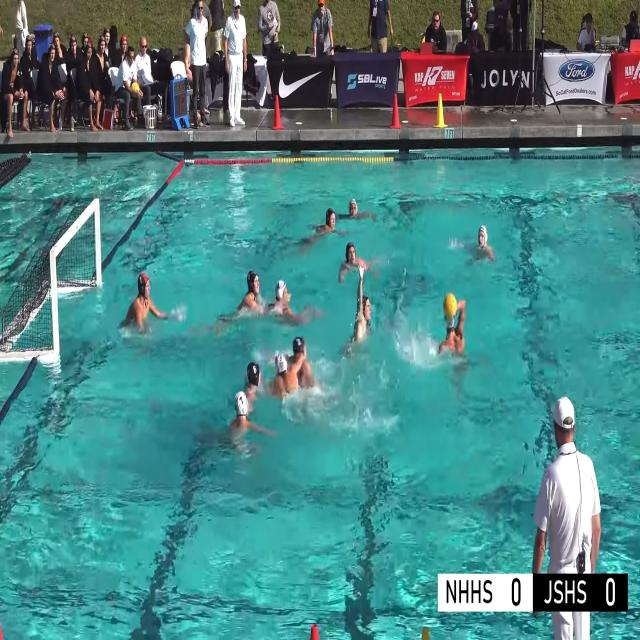ball: (444, 293, 457, 318)
